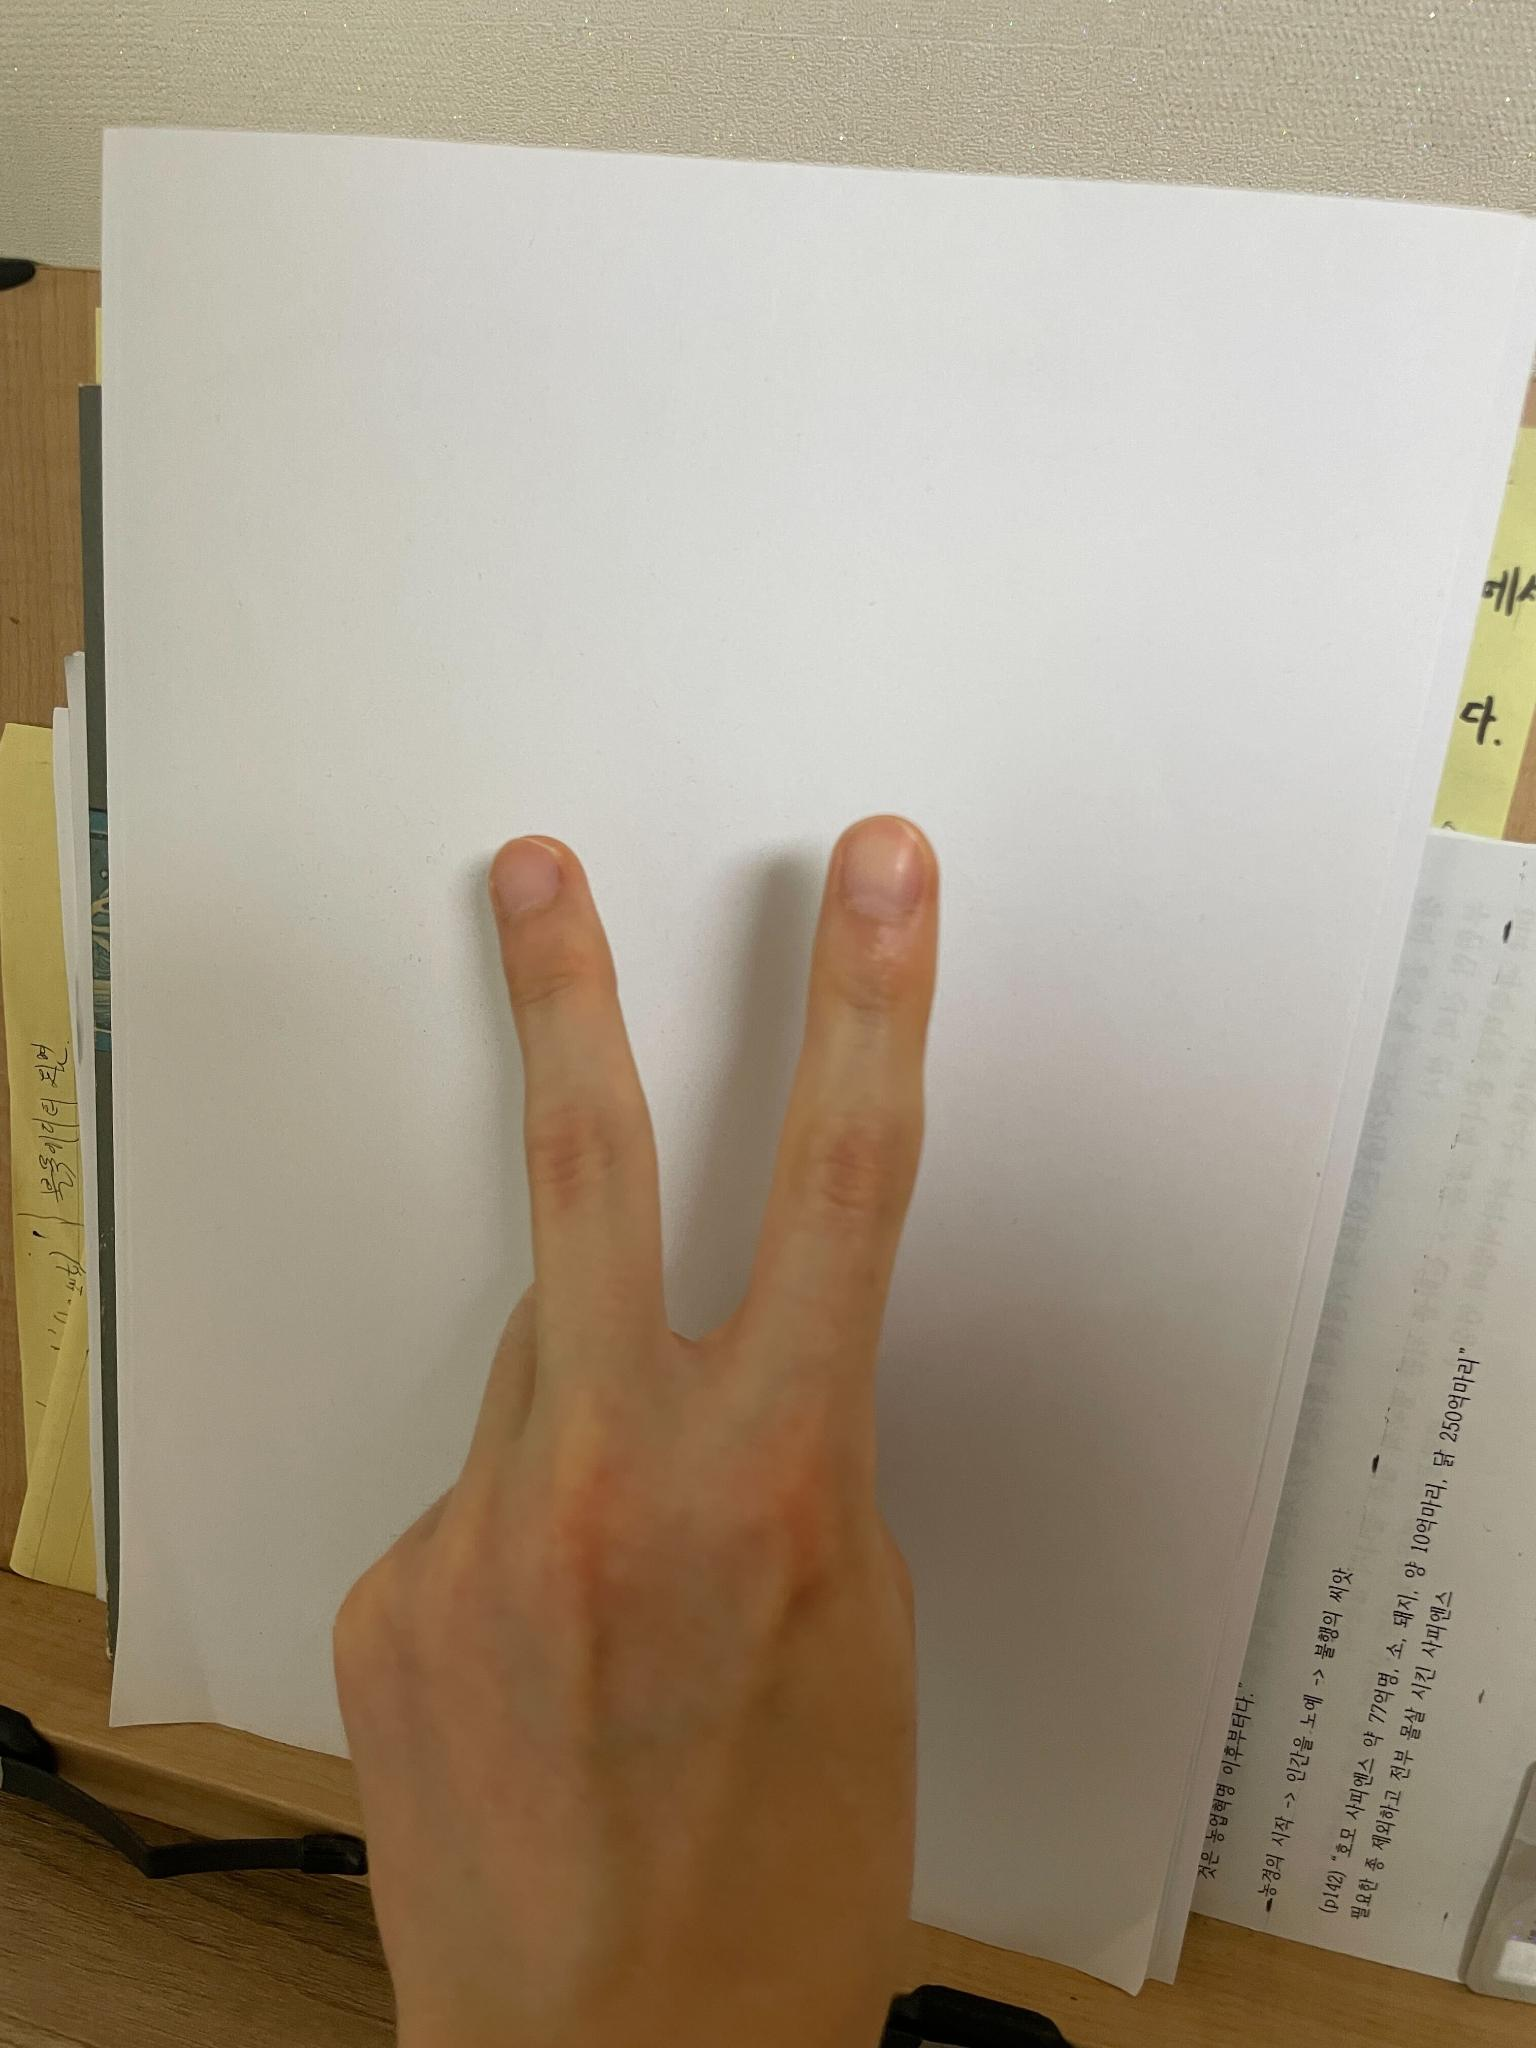v: (333, 792, 952, 2048)
